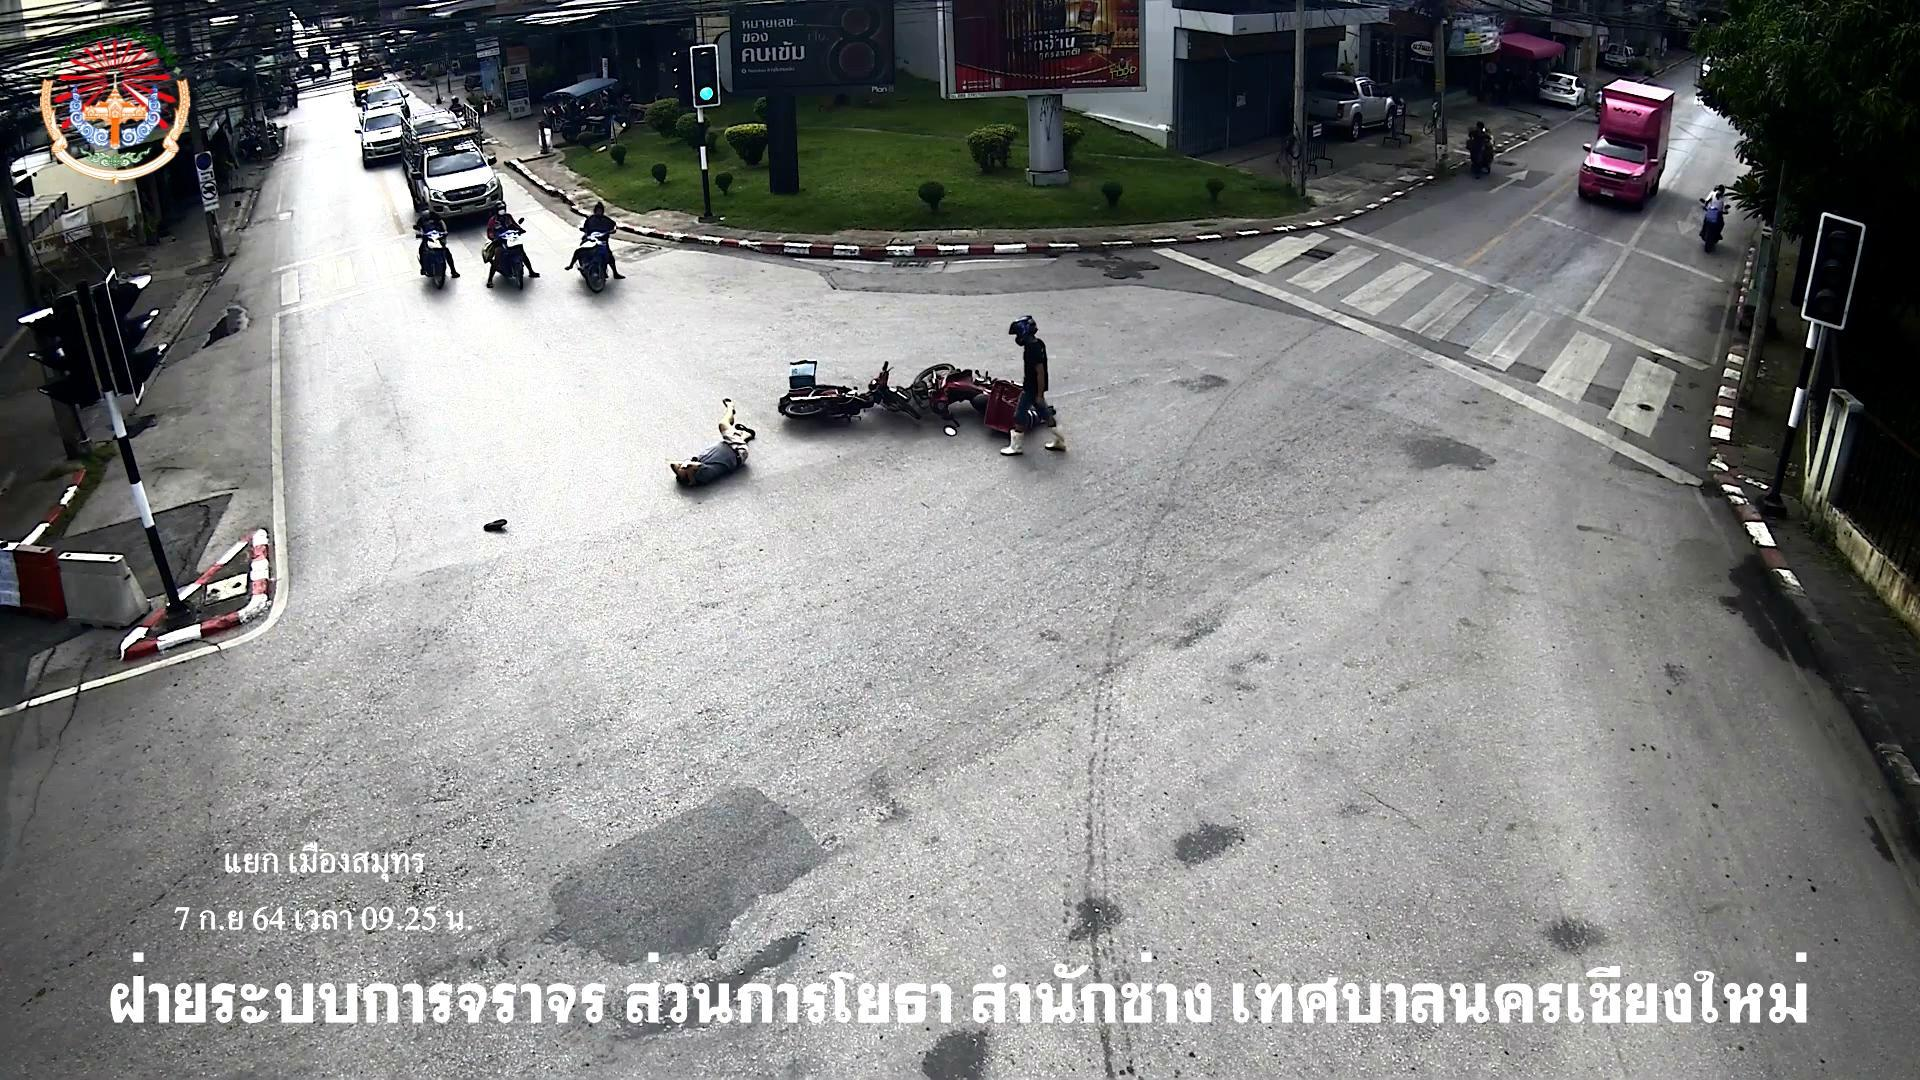accident: (667, 393, 758, 492)
